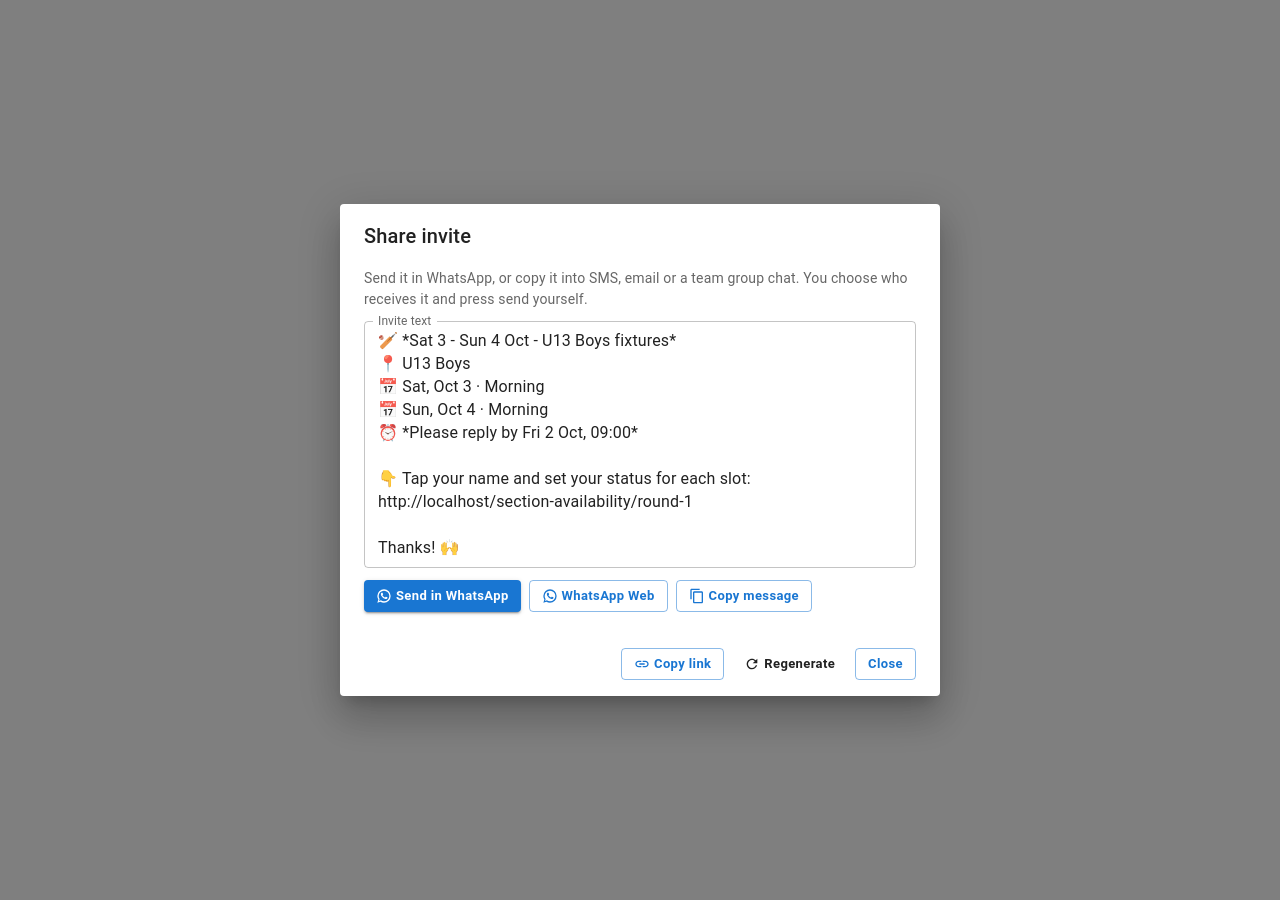
Test: SectionAvailabilityShareDialog › copy to clipboard › Copy link copies just the poll link
Click the button "Copy link".
click(673, 664)  # box [621,648,724,680]
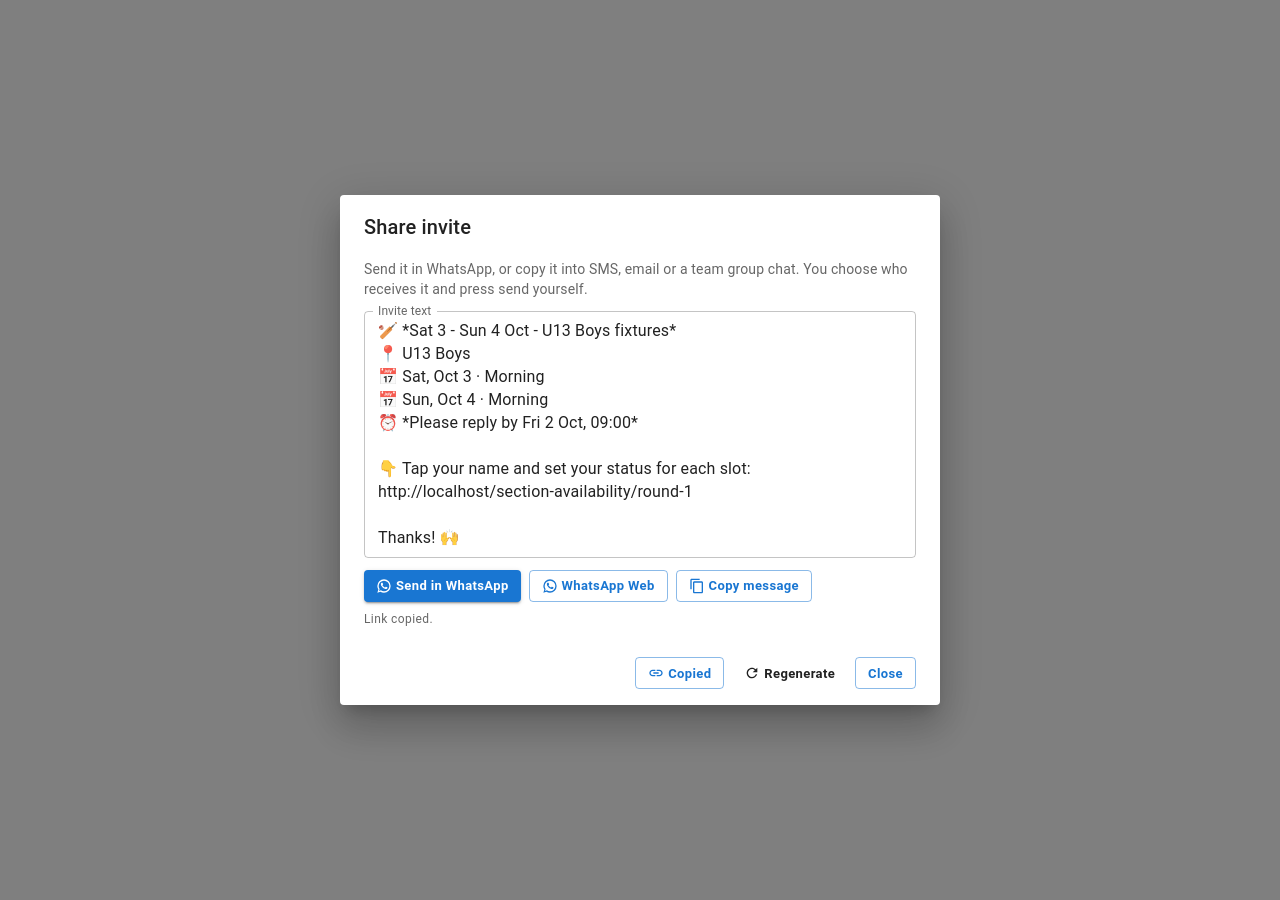
Check: the message reads "Link copied.", box [364,612,433,626]
